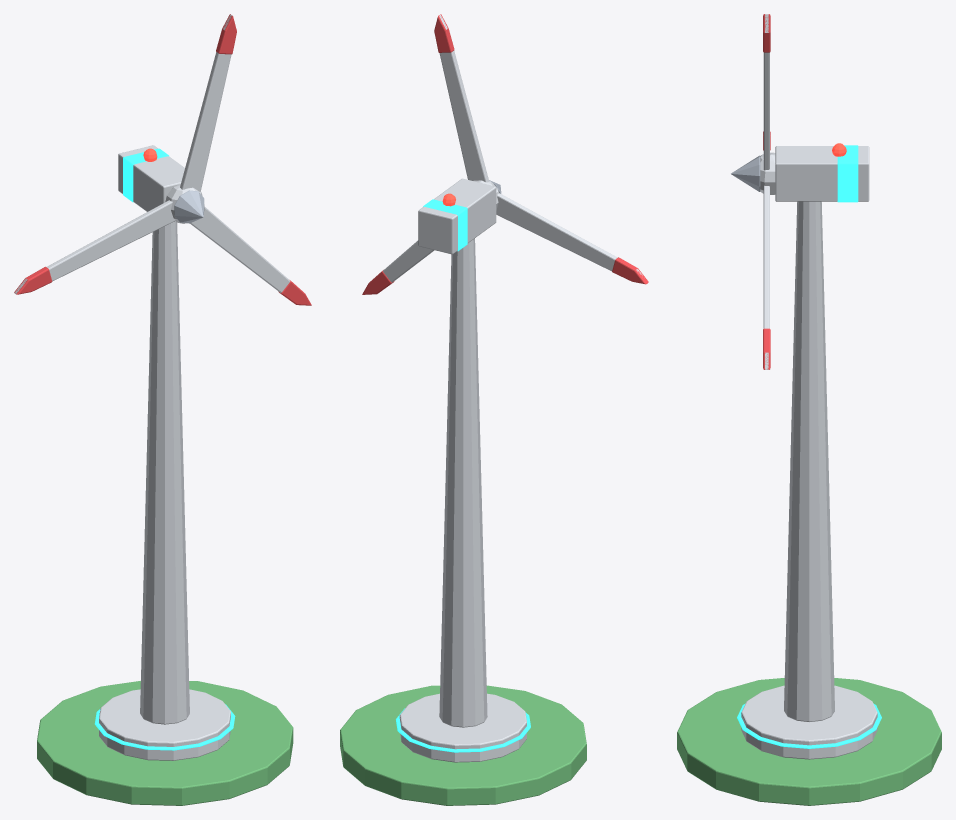
Rendered from turbine.glb.
3 renders of one model, left to right at view 1: azimuth 30°, elevation 25°; view 2: azimuth 150°, elevation 25°; view 3: azimuth 270°, elevation 25°, orthographic. The views are drawn at different scales.
Visible parts, largest first — view 1: Turbine; view 2: Turbine; view 3: Turbine.
Part boxes in pixels (<box>): Turbine: <box>14,14,311,805</box>; Turbine: <box>340,14,648,805</box>; Turbine: <box>677,14,941,805</box>.
Size of the model in its own units: 1.64 by 3.92 by 1.24.
